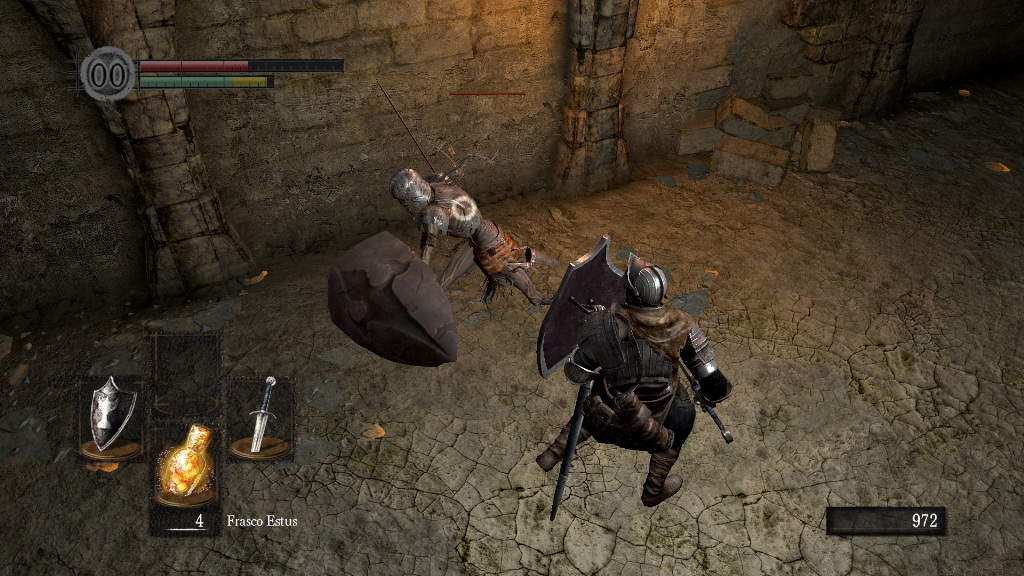health: (138, 58, 343, 71)
humanity: (80, 45, 136, 102)
player: (537, 234, 737, 508)
souls: (825, 506, 945, 536)
stamina: (138, 74, 274, 88)
undeadSoldier: (391, 168, 544, 315)
